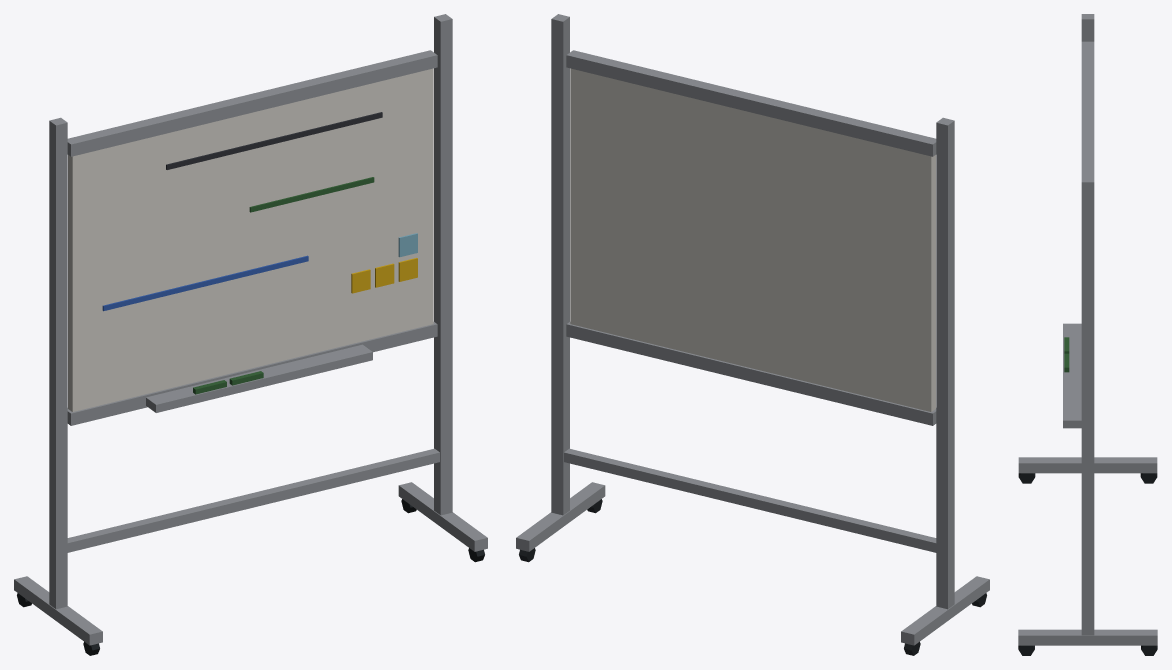
Rendered from whiteboard-00.glb.
3 renders of one model, left to right at view 1: azimuth 30°, elevation 25°; view 2: azimuth 150°, elevation 25°; view 3: azimuth 270°, elevation 25°, orthographic. The views are drawn at different scales.
Visible parts, largest first — view 1: whiteboard_00; view 2: whiteboard_00; view 3: whiteboard_00.
Part boxes in pixels (<box>): whiteboard_00: <box>14,14,487,655</box>; whiteboard_00: <box>516,14,989,655</box>; whiteboard_00: <box>1018,14,1157,655</box>.
Size of the model in its own units: 1.52 by 1.88 by 0.5021.
